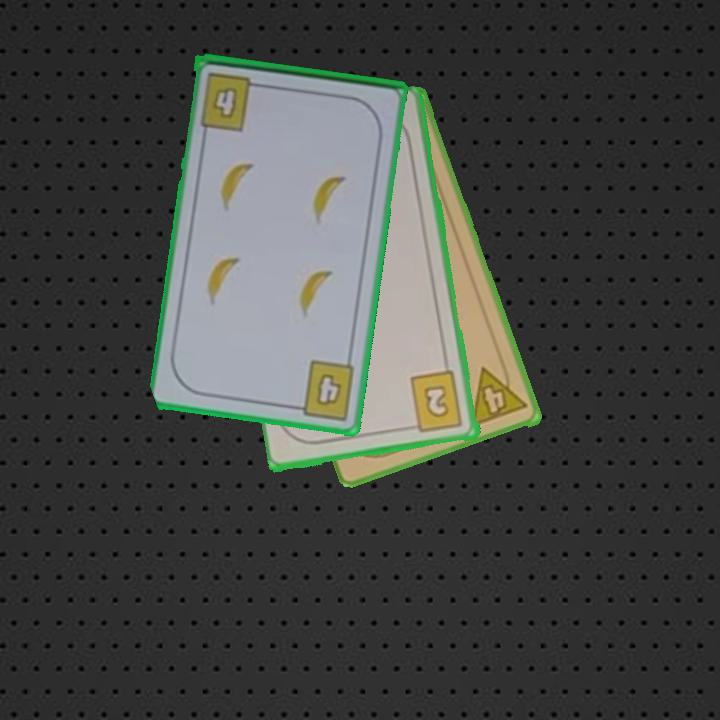2b: (405, 368, 466, 436)
4b: (288, 357, 358, 423), (210, 87, 238, 123)
4p: (467, 358, 530, 430)
